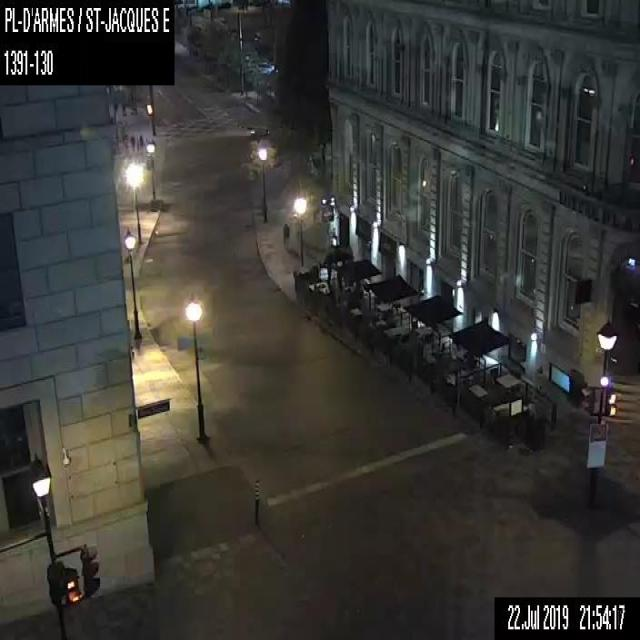pedestrian: (282, 222, 289, 249), (128, 131, 135, 150), (138, 132, 144, 150)
